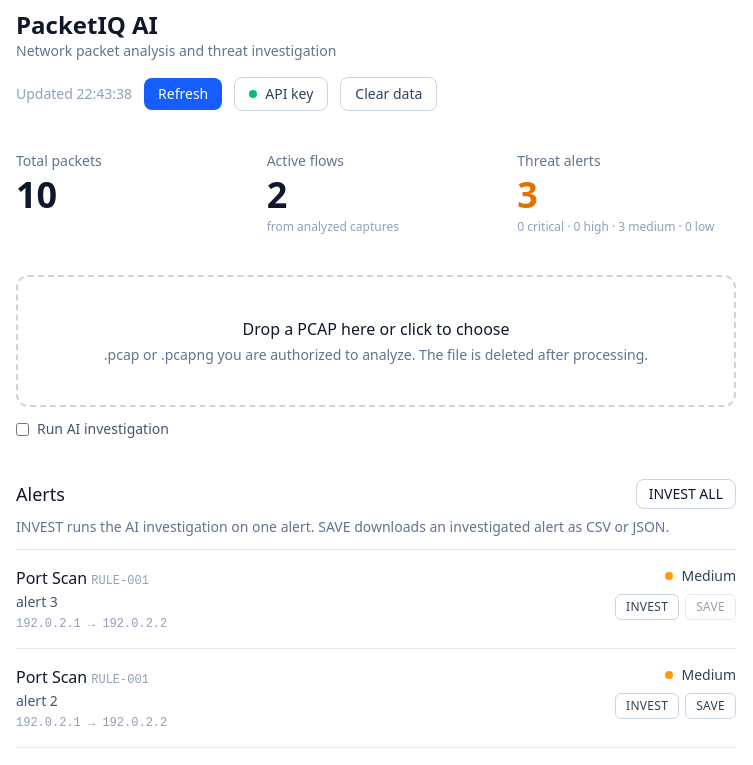
Test: INVEST ALL › investigates every alert without a result yet, one after another
This screenshot has width=753, height=765.
Click the button "INVEST ALL". click: {"x": 686, "y": 494}
box: [636, 479, 736, 509]
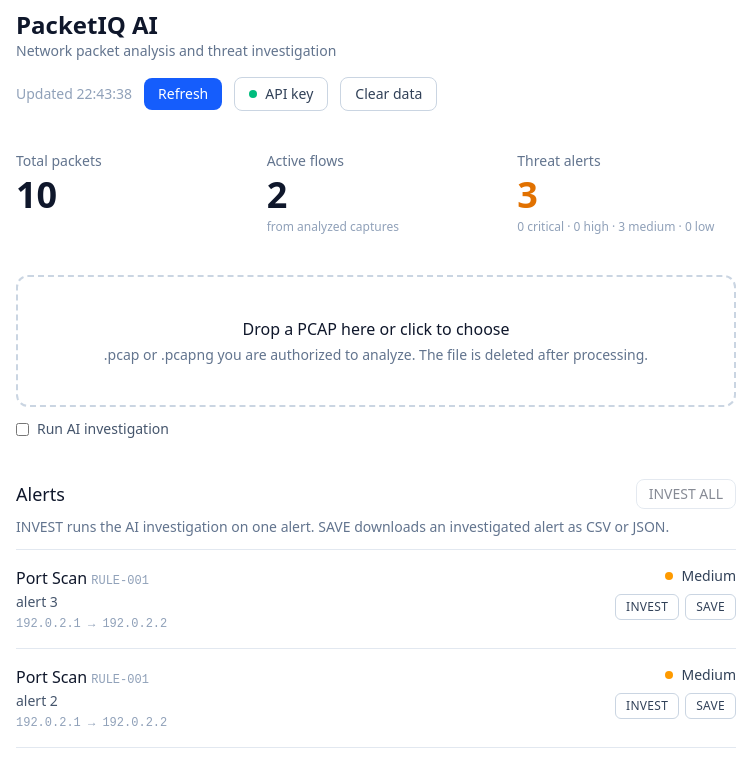
expect the button "INVEST ALL" is disabled: met, box [636, 479, 736, 509]
